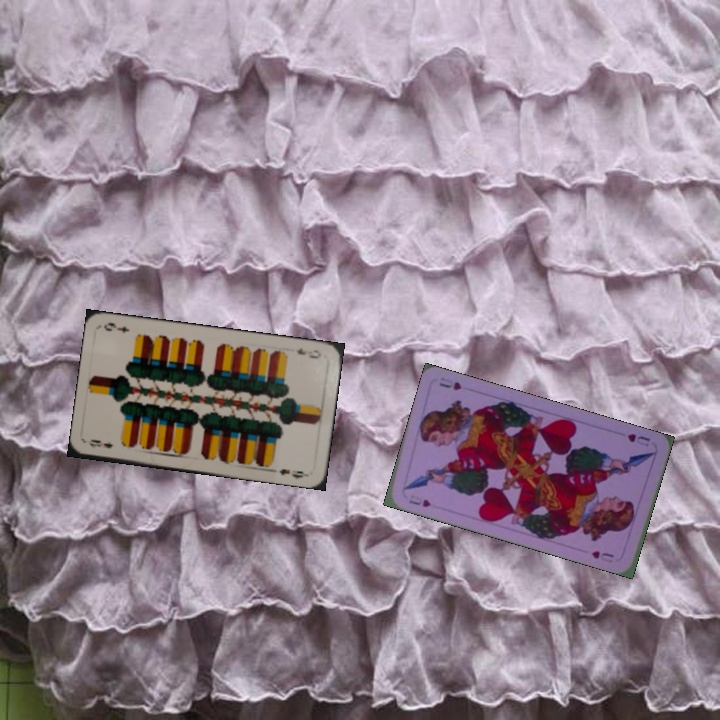E9: (293, 344, 323, 361), (86, 435, 115, 451)
HU: (623, 429, 653, 449), (405, 494, 433, 510)
